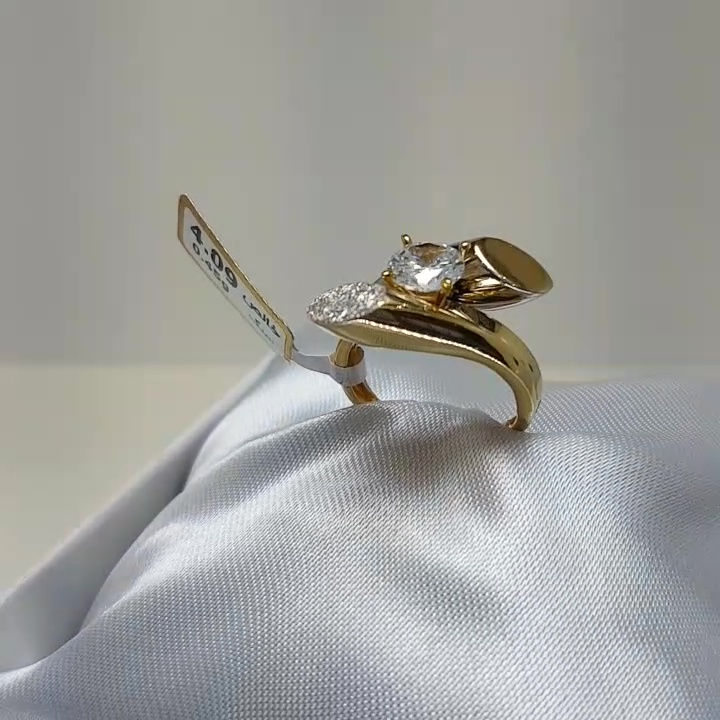Ring 7: (308, 202, 573, 446)
